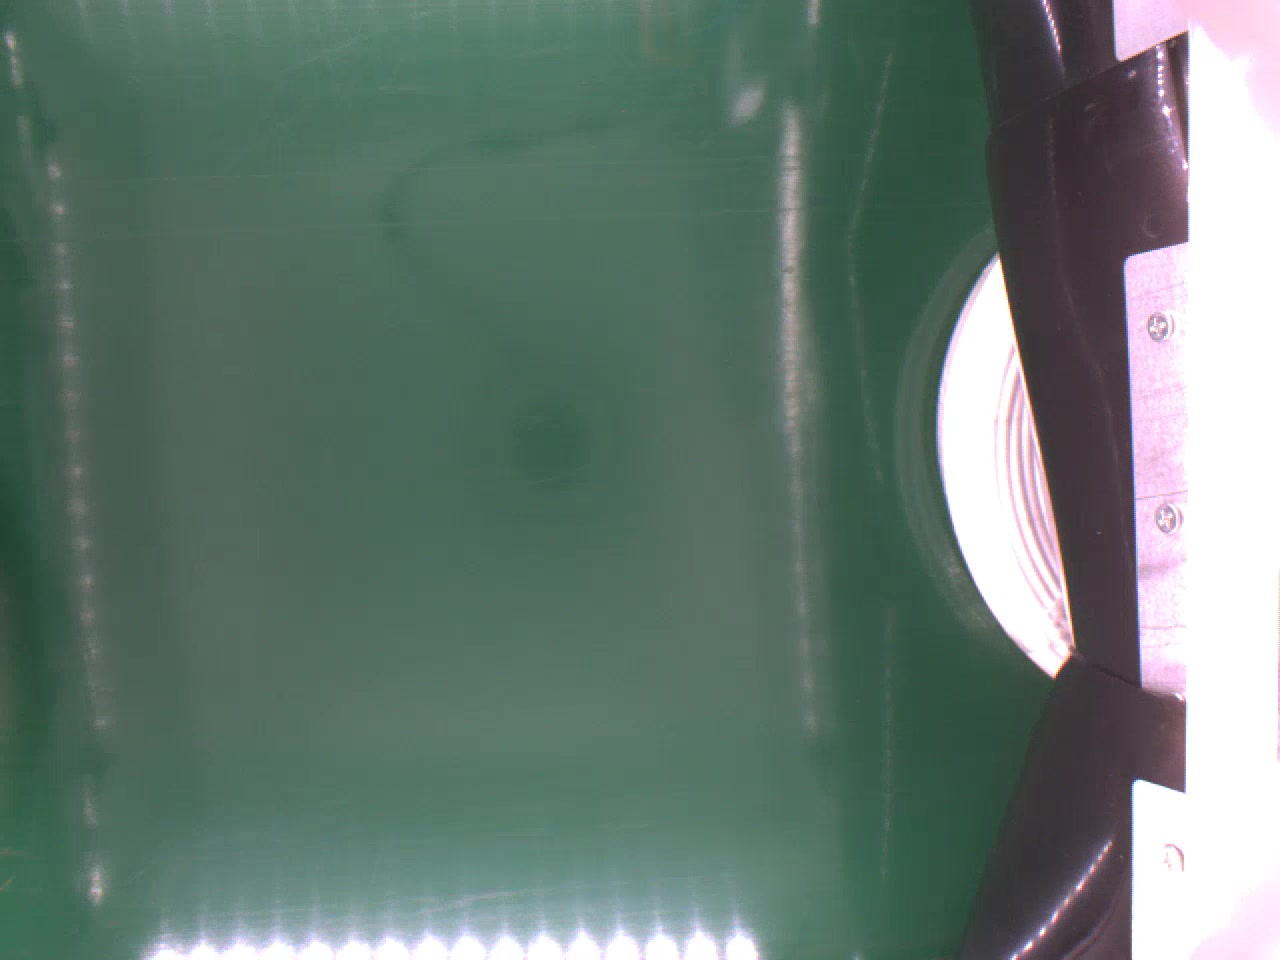white: (939, 250, 1072, 673)
